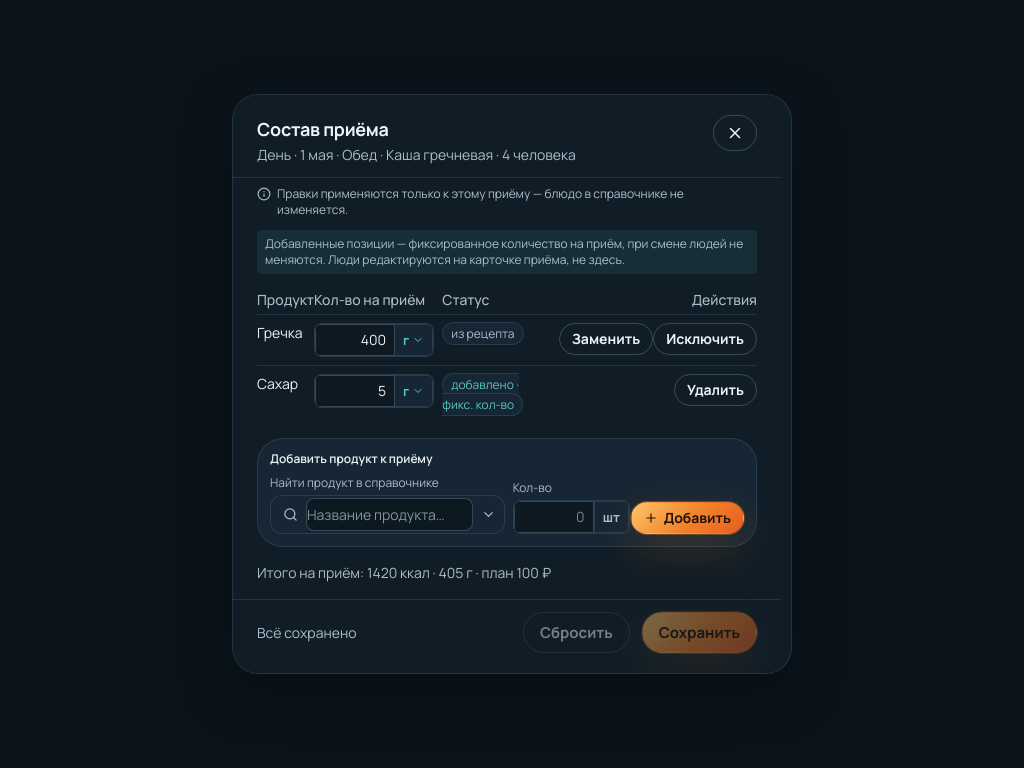
MealCompositionModal — U39 удаление добавленного продукта › «Сбросить» возвращает удалённую EXTRA-строку (черновик снимается)
Expected: the text "Сахар" is shown, [257,374,298,393]
Click the button with aria-label "Удалить: Сахар" at {"x": 715, "y": 390}, box [674,374,757,406]
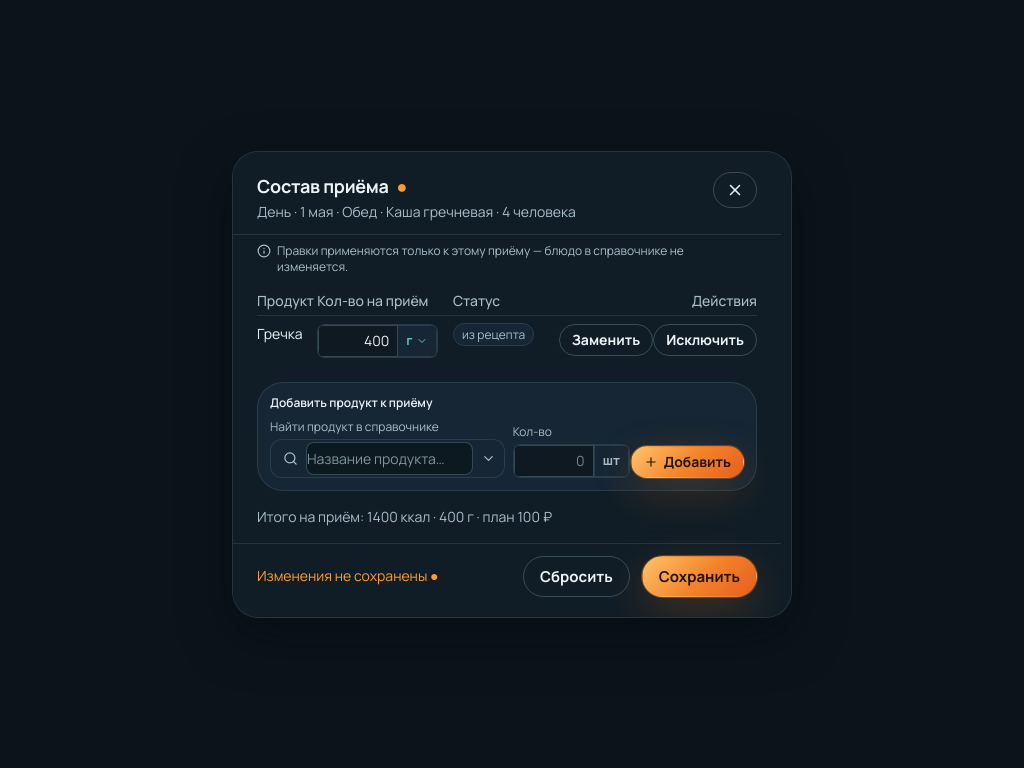
Expected: the text "Сахар" is gone
Click the button with aria-label "Сбросить изменения" at {"x": 576, "y": 576}, box [523,556,630,596]
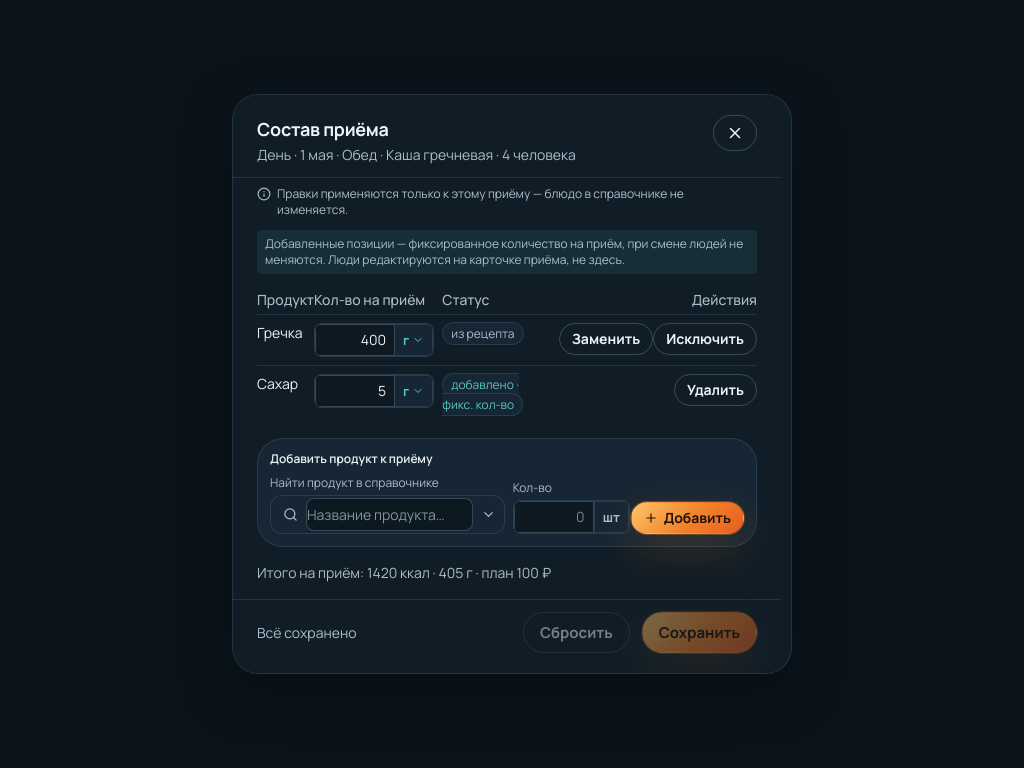
Expected: the text "Сахар" is shown, [257,374,298,393]
